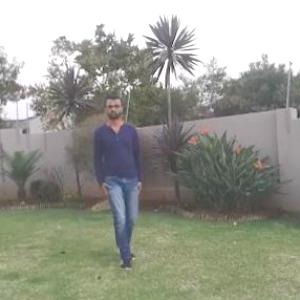follow: (100, 99, 144, 252)
